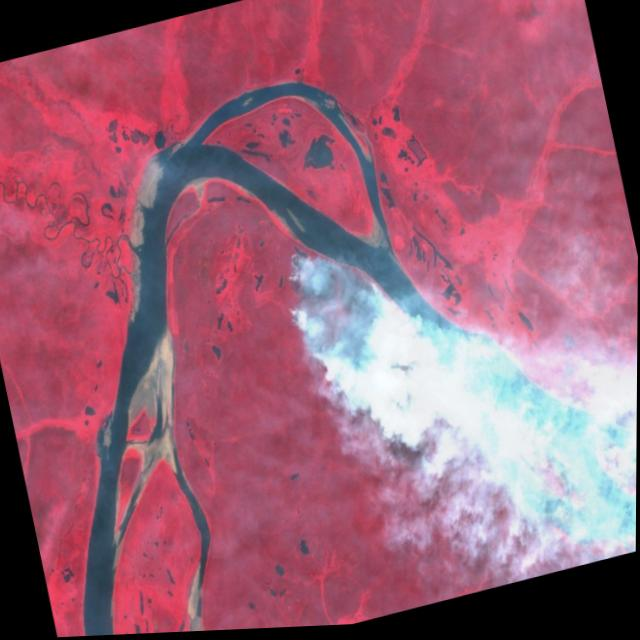fire: (275, 228, 417, 435)
